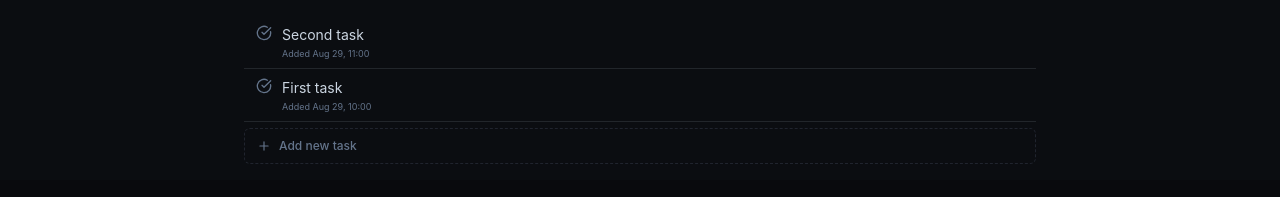
Test: TaskView keyboard navigation › lets only the most recent input modality own the visible selection
Press ArrowDown
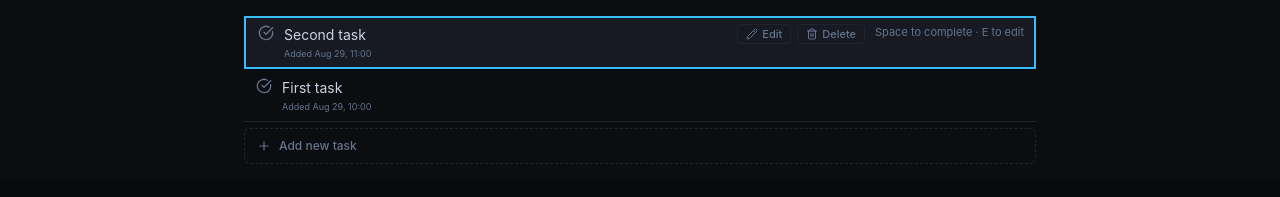
Result: the text "Space to complete · E to edit" is shown at [875, 24, 1024, 40]
Hover over the list item that starts with "Second task" at [640, 43], box [244, 16, 1036, 69]
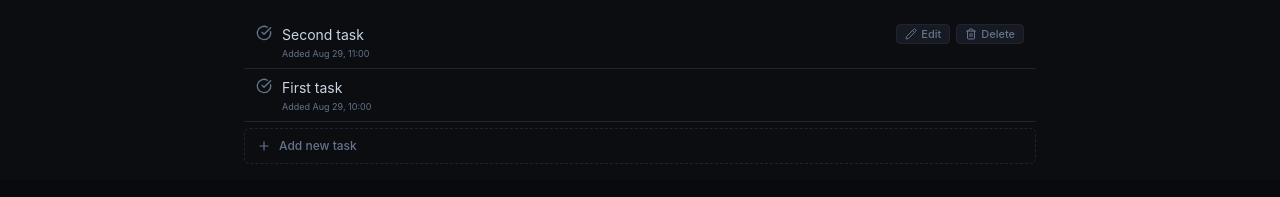
Result: the text "Space to complete" is gone
Press ArrowUp
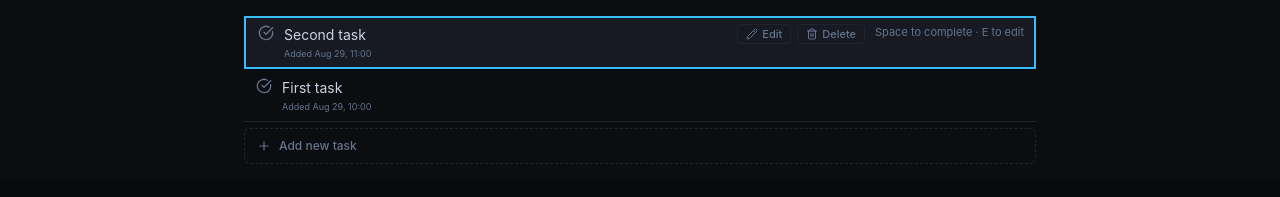
Result: the text "Space to complete · E to edit" is shown at [875, 24, 1024, 40]
